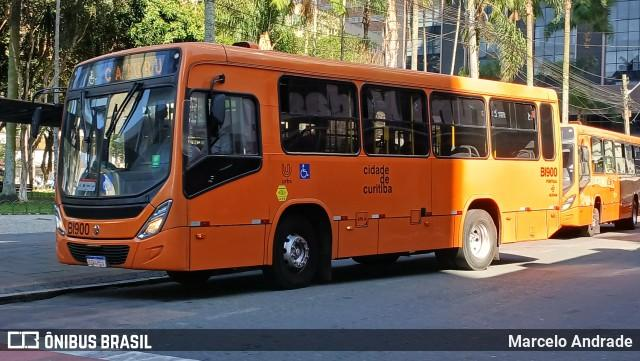CAJURU: (101, 56, 164, 85)
